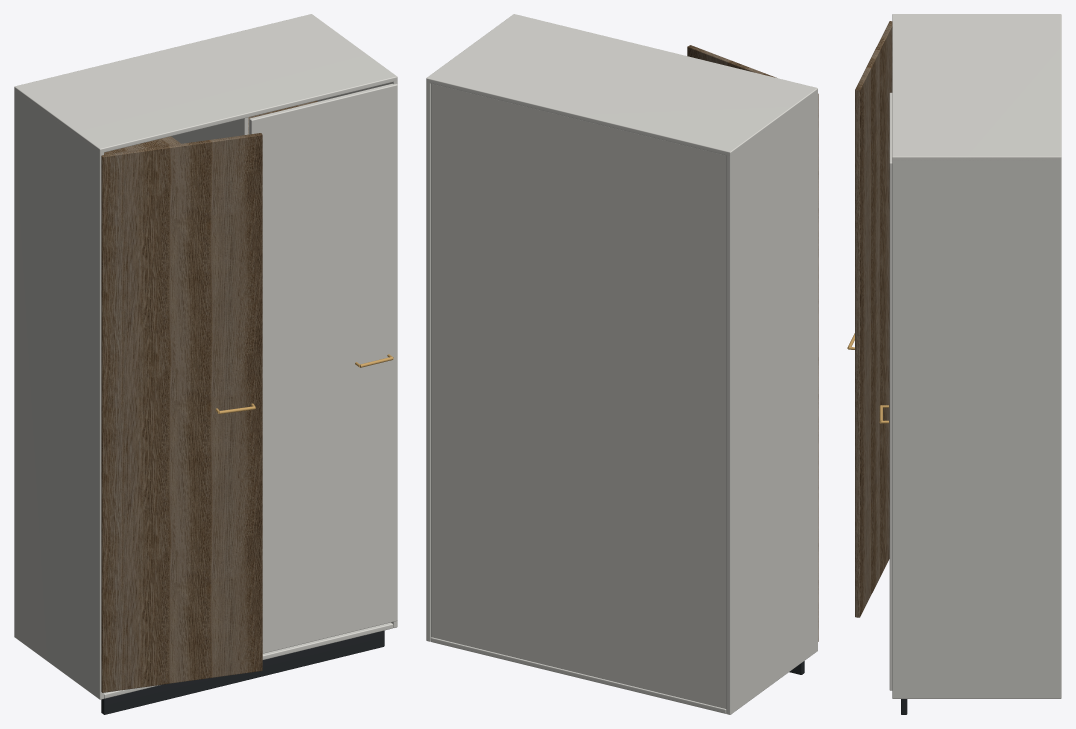
File: detail-wardrobe.glb
3 renders of one model, left to right at view 1: azimuth 30°, elevation 25°; view 2: azimuth 150°, elevation 25°; view 3: azimuth 270°, elevation 25°, orthographic. The views are drawn at different scales.
Parts seen in each view (by area): view 1: 平板柜门, 平板柜门.001, 左侧板, 顶板, 内收踢脚板, 底板, 中隔板, 可调层板; view 2: 嵌入式背板, 左侧板, 顶板, 右侧板, 底板, 平板柜门; view 3: 右侧板, 顶板, 平板柜门, 平板柜门.001.
Boxes of the visible parts, x1=… form: 平板柜门: x1=101, y1=133, x2=262, y2=692; 平板柜门.001: x1=249, y1=83, x2=397, y2=653; 左侧板: x1=14, y1=87, x2=103, y2=699; 顶板: x1=14, y1=14, x2=397, y2=152; 内收踢脚板: x1=101, y1=630, x2=384, y2=714; 底板: x1=104, y1=622, x2=393, y2=698; 中隔板: x1=171, y1=117, x2=248, y2=143; 可调层板: x1=104, y1=100, x2=317, y2=154; 嵌入式背板: x1=431, y1=83, x2=726, y2=708; 左侧板: x1=726, y1=89, x2=817, y2=714; 顶板: x1=426, y1=14, x2=817, y2=155; 右侧板: x1=426, y1=79, x2=430, y2=641; 底板: x1=430, y1=637, x2=726, y2=713; 平板柜门: x1=687, y1=45, x2=818, y2=641; 右侧板: x1=892, y1=156, x2=1061, y2=698; 顶板: x1=892, y1=14, x2=1061, y2=160; 平板柜门: x1=855, y1=21, x2=892, y2=617; 平板柜门.001: x1=889, y1=92, x2=892, y2=690.
Bounding box in the file's own units: 1.2 × 2.2 × 0.7588.
6 materials, 1 textured.
